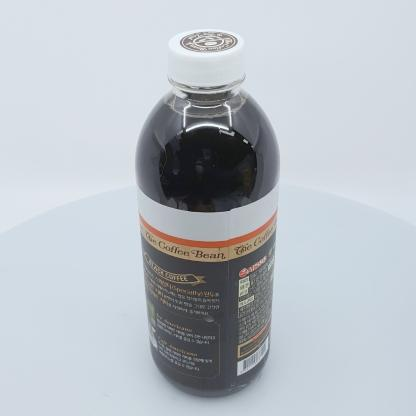--------: (135, 28, 281, 398)
